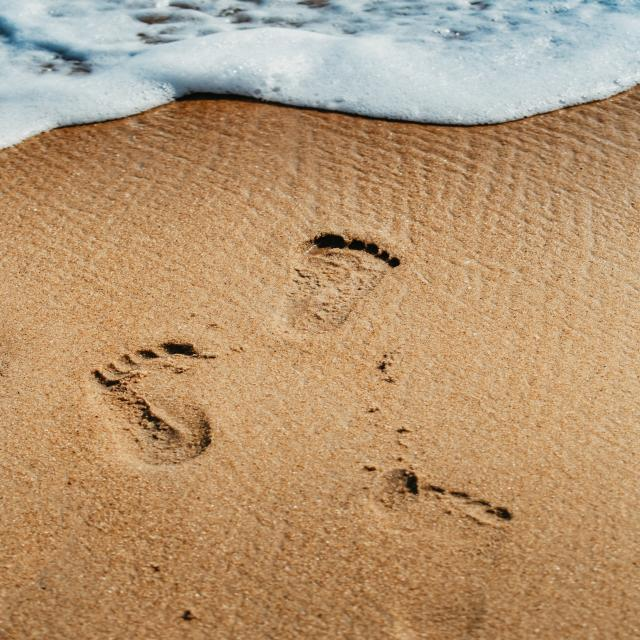human_footprint: (41, 172, 588, 640)
